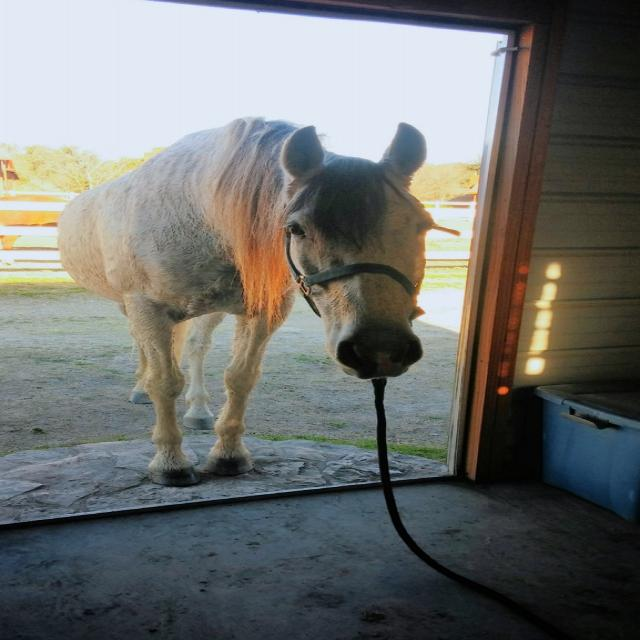Horse: (54, 117, 439, 485)
